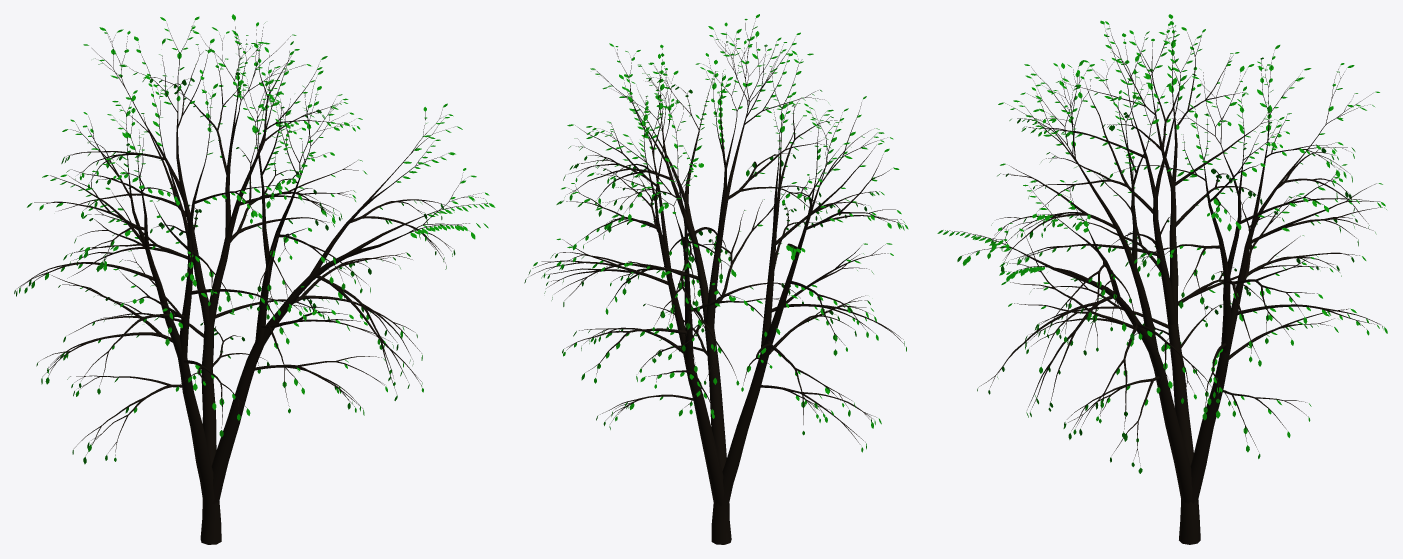
The model's file is Tree 3.obj.
3 renders of one model, left to right at view 1: azimuth 30°, elevation 25°; view 2: azimuth 150°, elevation 25°; view 3: azimuth 270°, elevation 25°, orthographic. The views are drawn at different scales.
Visible parts, largest first — view 1: tree_tree.003, leaves_leaves.002; view 2: tree_tree.003, leaves_leaves.002; view 3: tree_tree.003, leaves_leaves.002.
Part boxes in pixels (<box>): tree_tree.003: <box>17,21,487,544</box>; leaves_leaves.002: <box>14,14,495,464</box>; tree_tree.003: <box>527,18,904,544</box>; leaves_leaves.002: <box>524,14,908,452</box>; tree_tree.003: <box>945,21,1382,544</box>; leaves_leaves.002: <box>937,14,1387,473</box>.
Bounding box in the file's own units: 12.97 × 16.29 × 13.27.
